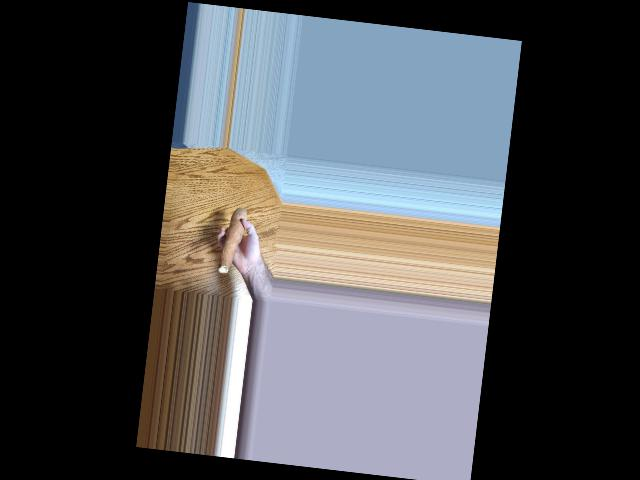sweet_potato: (215, 202, 245, 280)
